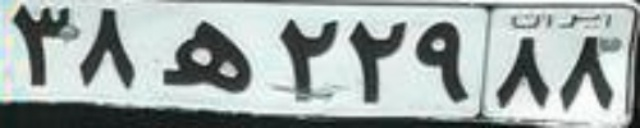2: (276, 17, 337, 102), (345, 20, 405, 103)
3: (7, 4, 67, 86)
8: (553, 36, 614, 111), (77, 8, 134, 88), (488, 37, 550, 109)
9: (416, 21, 470, 104)
he: (160, 19, 252, 92)
